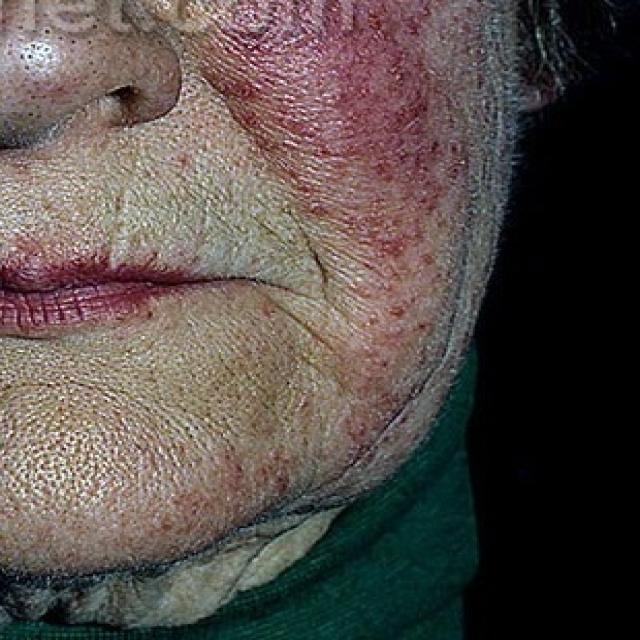Rosacea: (205, 0, 470, 398)
